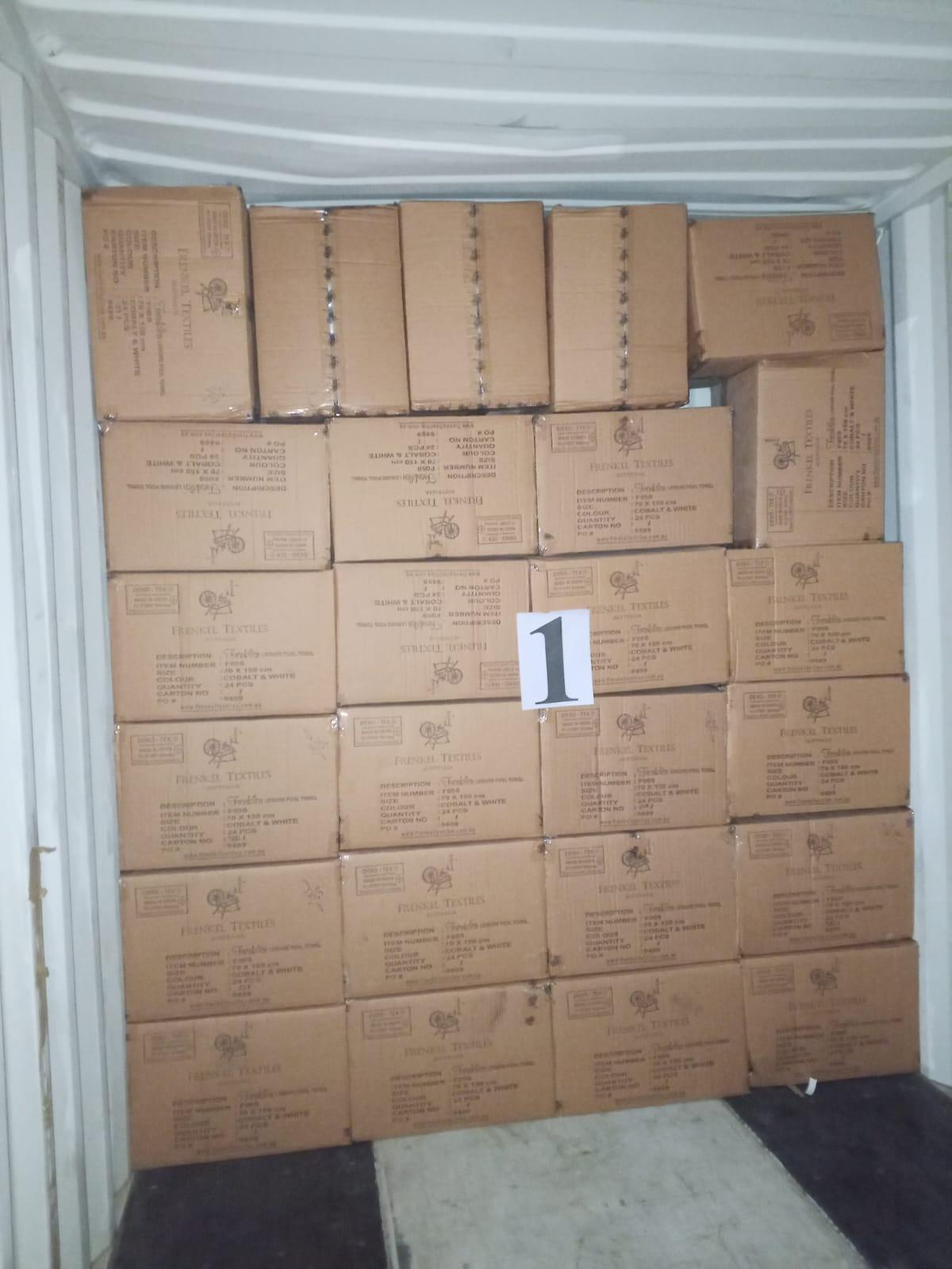carton: (83, 186, 256, 420), (126, 1005, 350, 1168), (120, 860, 344, 1022), (115, 716, 338, 872), (109, 570, 336, 722), (101, 422, 331, 571), (250, 205, 409, 417), (341, 838, 547, 998), (347, 984, 555, 1140), (399, 201, 550, 412), (689, 213, 885, 375), (727, 352, 885, 546), (338, 701, 541, 851), (329, 416, 537, 561), (552, 962, 747, 1114), (546, 205, 688, 411), (546, 826, 738, 977), (536, 408, 732, 554), (530, 549, 728, 693), (334, 560, 529, 705), (540, 690, 728, 835), (731, 811, 913, 956), (727, 676, 910, 818), (742, 941, 919, 1087), (727, 543, 904, 681)
